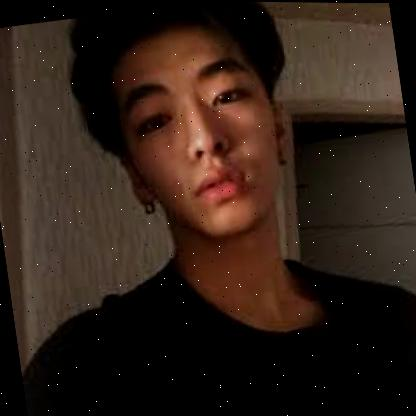person: (62, 0, 308, 262)
